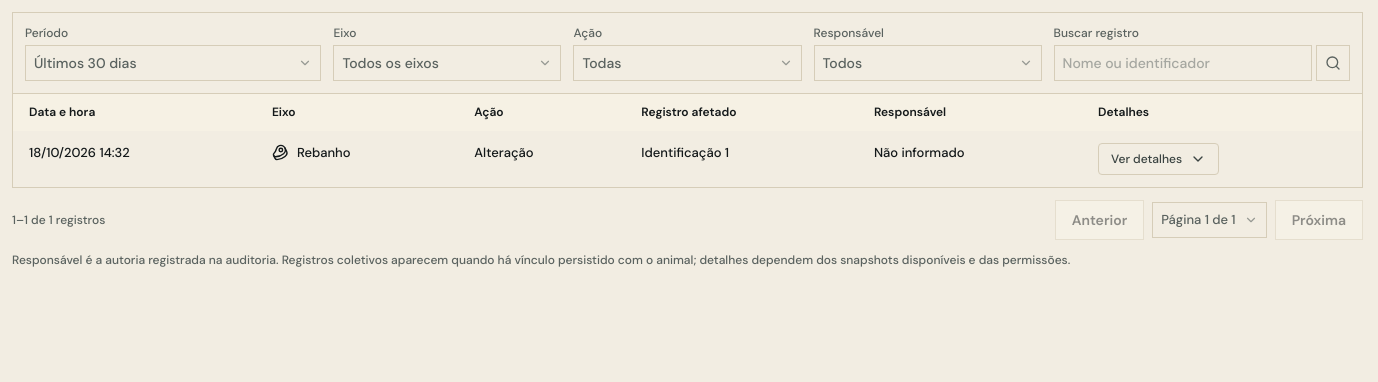
Test case: AuditoriaAnimal › autoria ausente não inventa Sistema e registro sem diff explica a limitação
Expected: the text "Identificação 1" is shown, x1=625 y1=131 x2=858 y2=187
Expected: the text "Não informado" is shown, x1=858 y1=131 x2=1082 y2=187
Click the button "Ver detalhes".
click(1159, 159)  # box x1=1098 y1=143 x2=1219 y2=175
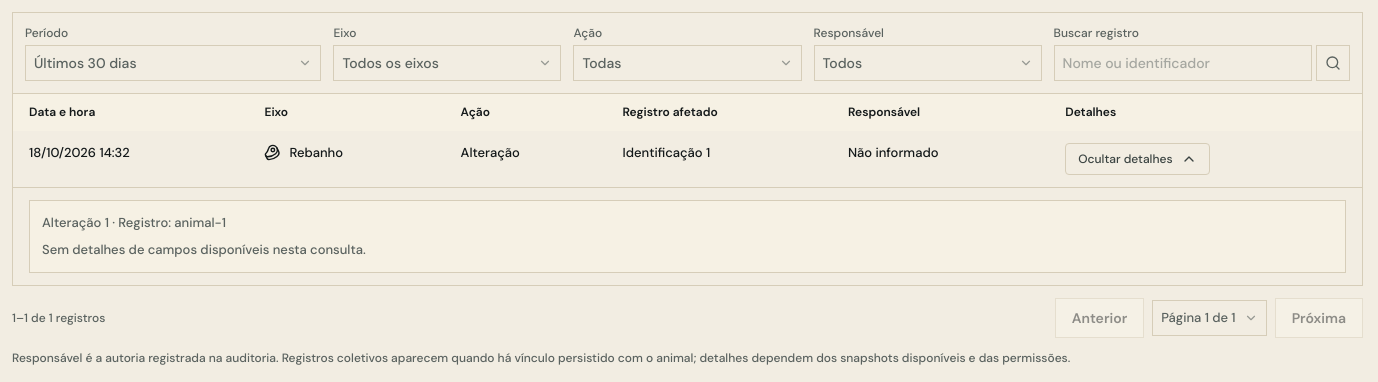
Expected: the text "Sem detalhes de campos disponíveis nesta consulta." is shown, x1=42 y1=241 x2=366 y2=258
Expected: the text "Alteração 1 · Registro: animal-1" is shown, x1=42 y1=214 x2=226 y2=231
